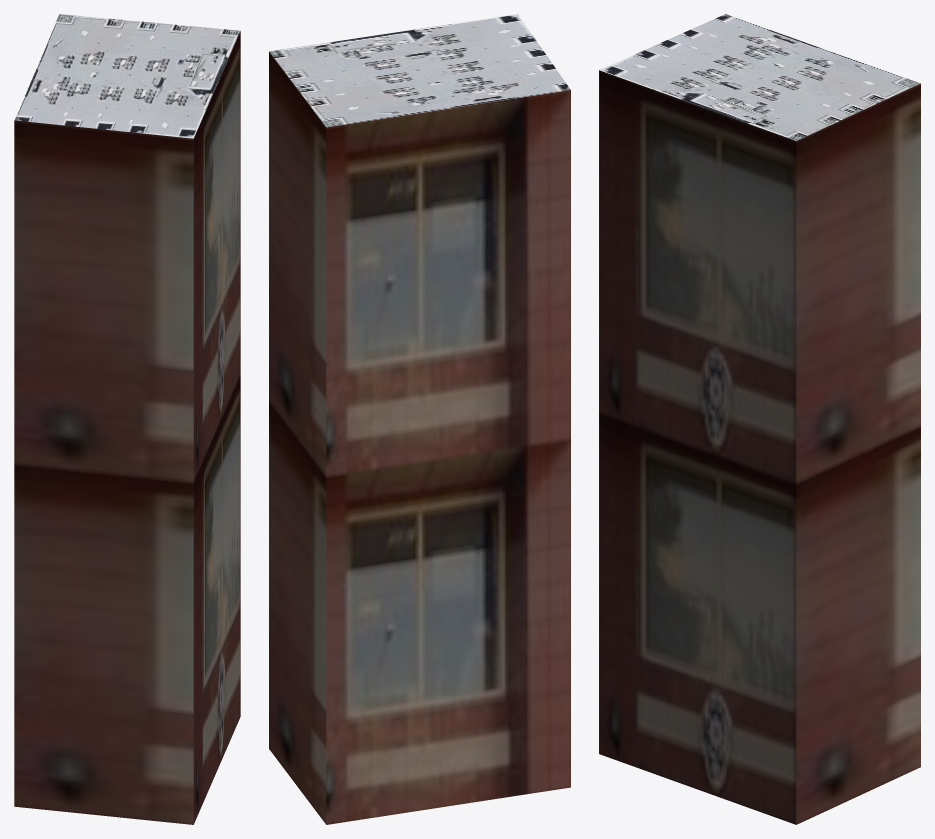
Rendered from ResTex__1752.fbx.
3 views of the same model, side by side, from view 1: azimuth 30°, elevation 25°; view 2: azimuth 150°, elevation 25°; view 3: azimuth 270°, elevation 25° (orthographic). The views are drawn at different scales.
Parts seen in each view (by area): view 1: CityEngineMaterial_13_m, CityEngineMaterial_8_m; view 2: CityEngineMaterial_13_m, CityEngineMaterial_8_m; view 3: CityEngineMaterial_13_m, CityEngineMaterial_8_m.
Boxes of the visible parts, x1,y1,x2,y2 form: CityEngineMaterial_13_m: (14, 31, 240, 824); CityEngineMaterial_8_m: (15, 14, 240, 138); CityEngineMaterial_13_m: (269, 51, 570, 824); CityEngineMaterial_8_m: (269, 14, 570, 127); CityEngineMaterial_13_m: (599, 70, 920, 824); CityEngineMaterial_8_m: (599, 14, 920, 140).
Bounding box in the file's own units: 2.39 × 6 × 2.56.
2 materials, 2 textured.
